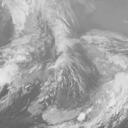cyclone: (45, 32, 106, 91)
